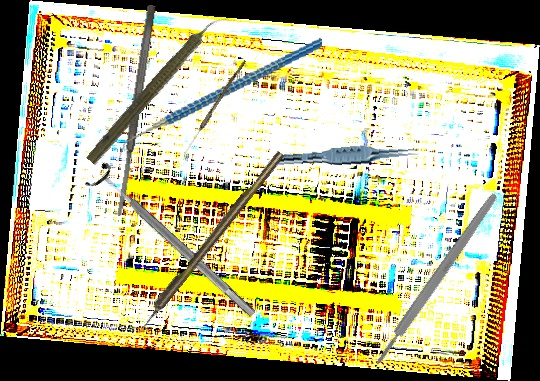Chopper: (104, 38, 335, 162)
Fixation Ring: (84, 160, 264, 327)
Handpiece: (82, 5, 232, 171)
Hook Surgical: (133, 150, 286, 335)
Scalpel Handle: (372, 191, 500, 367)
Spatula Surgical: (113, 4, 158, 217)
Surgical Spoon: (183, 58, 247, 155)
Tissue Forceps: (272, 139, 420, 174)
